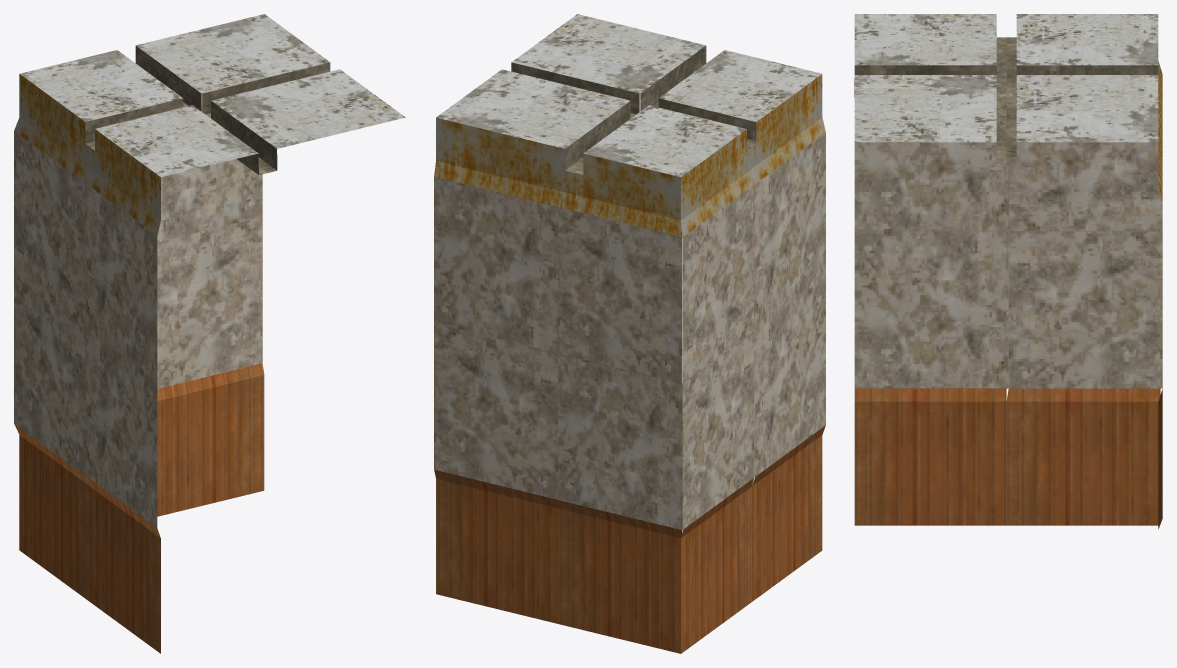
Rendered from cornerpiece.fbx.
The picture shows the model from 3 angles, left to right: view 1: azimuth 30°, elevation 25°; view 2: azimuth 150°, elevation 25°; view 3: azimuth 270°, elevation 25°; orthographic projection. The views are drawn at different scales.
Parts seen in each view (by area): view 1: CornerPiece; view 2: CornerPiece; view 3: CornerPiece.
Part boxes in pixels (box(x1,y1,x2,y2)): CornerPiece: box(14, 14, 405, 653); CornerPiece: box(434, 14, 825, 653); CornerPiece: box(854, 14, 1162, 529).
Bounding box in the file's own units: 180 × 330 × 180.
